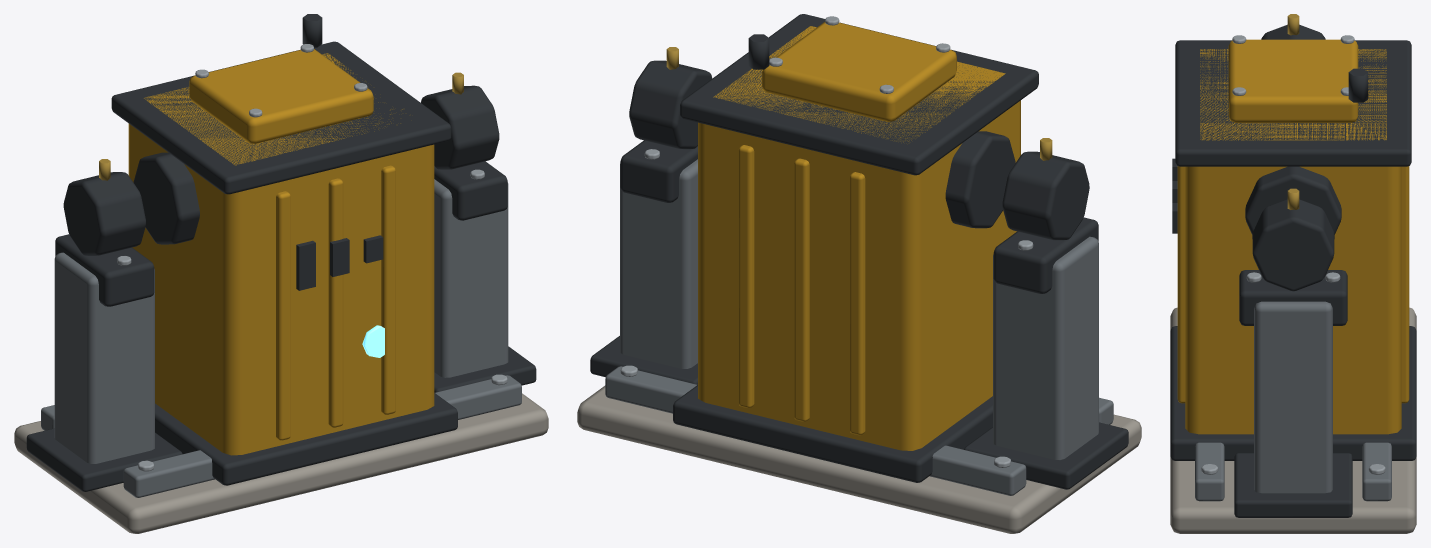
Rendered from pp_reducer.glb.
The picture shows the model from 3 angles, left to right: view 1: azimuth 30°, elevation 25°; view 2: azimuth 150°, elevation 25°; view 3: azimuth 270°, elevation 25°; orthographic projection. The views are drawn at different scales.
Parts seen in each view (by area): view 1: block.004, block.009, block.011, block.001, block.014, block.010, block.008, cyl.004, block.002, cyl.002, cyl.006, block.005 (+9 smaller); view 2: block.004, block.009, block.011, block.001, block.014, block.010, block.008, cyl.004, block.003, cyl.002, cyl.006, block.005 (+7 smaller); view 3: block.004, block.009, block.014, block.010, block.001, cyl.006, block.008, block.015, block.007, cyl.003, block.016, block.002 (+3 smaller).
Part boxes in pixels (x1,y1,x2,y2): block.004: [128, 53, 434, 455]; block.009: [111, 41, 451, 194]; block.011: [54, 252, 154, 463]; block.001: [14, 393, 548, 533]; block.014: [434, 179, 508, 377]; block.010: [189, 49, 373, 143]; block.008: [155, 393, 457, 485]; cyl.004: [63, 172, 145, 255]; block.002: [123, 375, 521, 497]; cyl.002: [133, 152, 199, 244]; cyl.006: [421, 85, 499, 169]; block.005: [276, 191, 290, 440]; block.004: [698, 26, 1020, 450]; block.009: [680, 14, 1038, 175]; block.011: [993, 236, 1098, 459]; block.001: [577, 385, 1141, 533]; block.014: [620, 159, 697, 368]; block.010: [762, 22, 956, 121]; block.008: [673, 385, 992, 482]; cyl.004: [1002, 151, 1089, 240]; block.003: [605, 366, 1026, 495]; cyl.002: [945, 131, 1015, 228]; cyl.006: [629, 60, 712, 149]; block.005: [849, 172, 865, 435]; block.004: [1185, 49, 1401, 434]; block.009: [1175, 40, 1411, 166]; block.014: [1254, 301, 1332, 493]; block.010: [1228, 39, 1358, 122]; block.001: [1170, 307, 1416, 533]; cyl.006: [1252, 199, 1334, 291]; block.008: [1170, 326, 1416, 460]; block.015: [1234, 453, 1352, 517]; block.007: [1177, 166, 1409, 403]; cyl.003: [1245, 166, 1341, 234]; block.016: [1239, 270, 1347, 325]; block.002: [1195, 442, 1224, 501].
Bounding box in the file's own units: 1.08 × 0.88 × 0.5.
